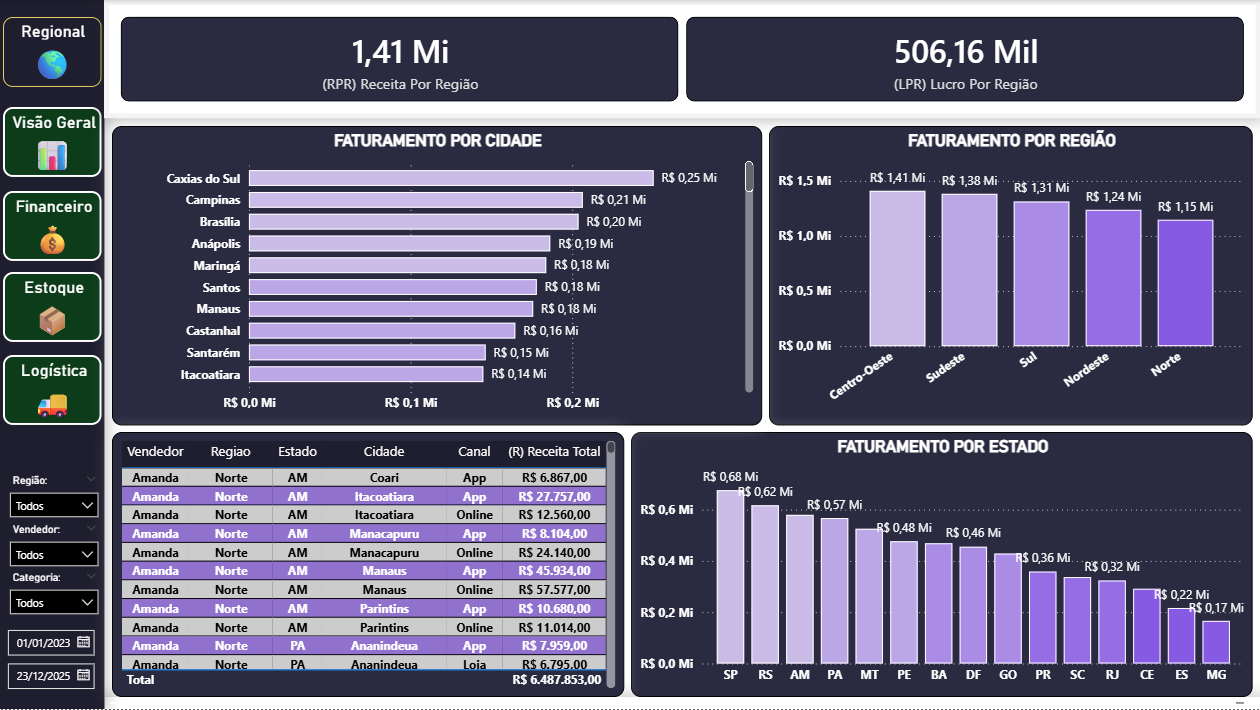

The page's visual inventory and layout, read from the dashboard file:
{"tool":"powerbi","page":{"name":"Regional","canvas":[1280,720],"ordinal":4},"visuals":[{"type":"shape","box":[0,0,106,719.8],"z":0},{"type":"actionButton","title":"Regional","box":[2.9,17.5,100.2,71],"z":1000},{"type":"actionButton","title":"Visão Geral","box":[2.9,108.9,100.2,71],"z":2000},{"type":"actionButton","title":"Financeiro","box":[2.9,193.6,100.2,71],"z":3000},{"type":"actionButton","title":"Estoque","box":[2.9,276.2,100.2,71],"z":4000},{"type":"actionButton","title":"Logística","box":[2.9,359.9,100.2,71],"z":5000},{"type":"cardVisual","fields":{"Data":["Base.(SE) Status Estoque"]},"box":[106.3,708,1173.7,12],"z":6000},{"type":"cardVisual","fields":{"Data":["Base.(RTR) Receita Top Região","Base.(LPR) Lucro Por Região"]},"box":[105.9,0,1174.1,120.2],"z":7000},{"type":"clusteredColumnChart","title":"FATURAMENTO POR REGIÃO","fields":{"Category":["Base.Regiao"],"Y":["Base.(R) Receita Total"]},"box":[780.6,127.9,491.3,303.5],"z":8000},{"type":"clusteredColumnChart","title":"FATURAMENTO POR ESTADO","fields":{"Category":["Base.Estado"],"Y":["Base.(R) Receita Total"]},"box":[640.5,438.5,631.4,269],"z":9000},{"type":"clusteredBarChart","title":"FATURAMENTO POR CIDADE","fields":{"Category":["Base.Cidade"],"Y":["Base.(R) Receita Total"]},"box":[113.7,127.9,659.8,303.5],"z":10000},{"type":"tableEx","title":"ESTOQUE ATUAL vs ESTOQUE MINIMO","fields":{"Values":["Base.Vendedor","Base.Regiao","Base.Estado","Base.Cidade","Base.Canal","Base.(R) Receita Total"]},"box":[113.7,438.5,519.7,269],"z":11000},{"type":"slicer","fields":{"Values":["Base.Regiao"]},"box":[0,476,110,59],"z":12000},{"type":"slicer","fields":{"Values":["Base.Vendedor"]},"box":[0,526,110,59],"z":13000},{"type":"slicer","fields":{"Values":["Base.Categoria"]},"box":[0,575,110,59],"z":14000},{"type":"slicer","fields":{"Values":["Base.Data"]},"box":[0,634,105,72],"z":15000}]}

Visuals, with their boxes in screenshot pixels (x1, y1, x2, y2), scaled from the page's 1280x720 canvas onto the 1260x710 screenshot:
shape: BBox(0, 0, 104, 709)
"Regional" actionButton: BBox(3, 17, 101, 87)
"Visão Geral" actionButton: BBox(3, 107, 101, 177)
"Financeiro" actionButton: BBox(3, 191, 101, 261)
"Estoque" actionButton: BBox(3, 272, 101, 342)
"Logística" actionButton: BBox(3, 355, 101, 425)
cardVisual - Base.(SE) Status Estoque: BBox(105, 698, 1259, 709)
cardVisual - Base.(RTR) Receita Top Região x Base.(LPR) Lucro Por Região: BBox(104, 0, 1259, 119)
"FATURAMENTO POR REGIÃO" clusteredColumnChart: BBox(768, 126, 1252, 425)
"FATURAMENTO POR ESTADO" clusteredColumnChart: BBox(630, 432, 1252, 698)
"FATURAMENTO POR CIDADE" clusteredBarChart: BBox(112, 126, 761, 425)
"ESTOQUE ATUAL vs ESTOQUE MINIMO" tableEx: BBox(112, 432, 624, 698)
slicer - Base.Regiao: BBox(0, 469, 108, 528)
slicer - Base.Vendedor: BBox(0, 519, 108, 577)
slicer - Base.Categoria: BBox(0, 567, 108, 625)
slicer - Base.Data: BBox(0, 625, 103, 696)
